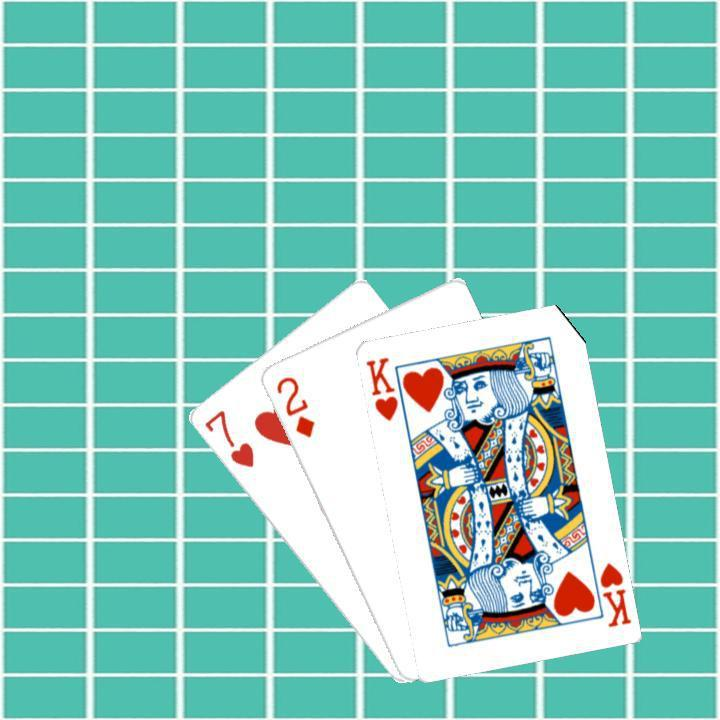2: (271, 372, 317, 440)
7: (199, 405, 256, 470)
K: (361, 352, 400, 423), (594, 557, 632, 629)
